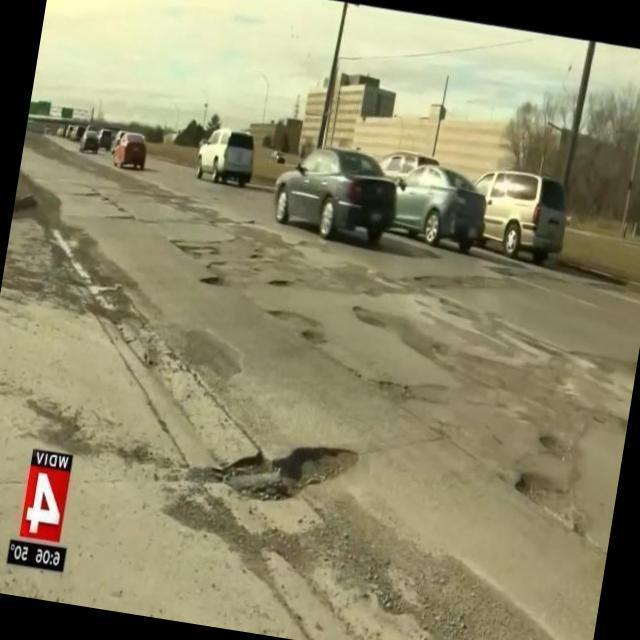Pothole: (210, 452, 354, 503), (518, 477, 572, 524)
